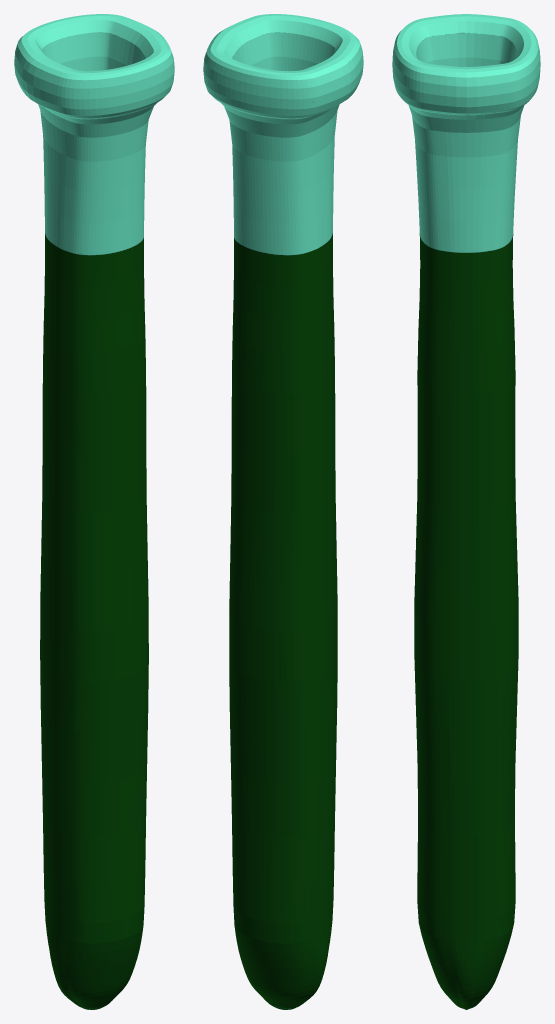
File: Tubo Deforme 2(ESCALADO).fbx
3 renders of one model, left to right at view 1: azimuth 30°, elevation 25°; view 2: azimuth 150°, elevation 25°; view 3: azimuth 270°, elevation 25°, orthographic.
Parts seen in each view (by area): view 1: Tubo_Deformado_2; view 2: Tubo_Deformado_2; view 3: Tubo_Deformado_2.
Part boxes in pixels (left/top/right/bottom): Tubo_Deformado_2: left=14, top=14, right=174, bottom=1009; Tubo_Deformado_2: left=203, top=14, right=363, bottom=1009; Tubo_Deformado_2: left=392, top=14, right=540, bottom=1009.
Size of the model in its own units: 0.0525 by 0.3568 by 0.0497.
